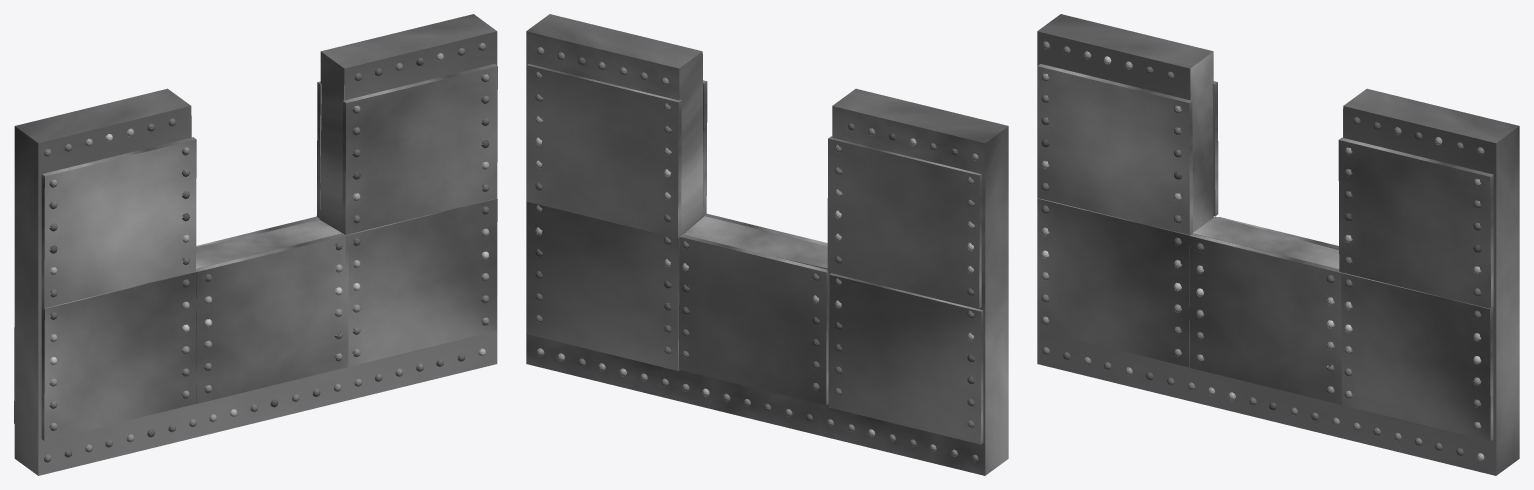
File: metalWallDamaged.fbx
The picture shows the model from 3 angles, left to right: view 1: azimuth 30°, elevation 25°; view 2: azimuth 150°, elevation 25°; view 3: azimuth 330°, elevation 25°; orthographic projection.
Parts seen in each view (by area): view 1: Icosphere.003; view 2: Icosphere.003; view 3: Icosphere.003.
Part boxes in pixels (x1,y1,x2,y2): Icosphere.003: (14,14,497,475); Icosphere.003: (526,14,1008,475); Icosphere.003: (1037,14,1519,475).
Bounding box in the file's own units: 2148 × 1488 × 270.
